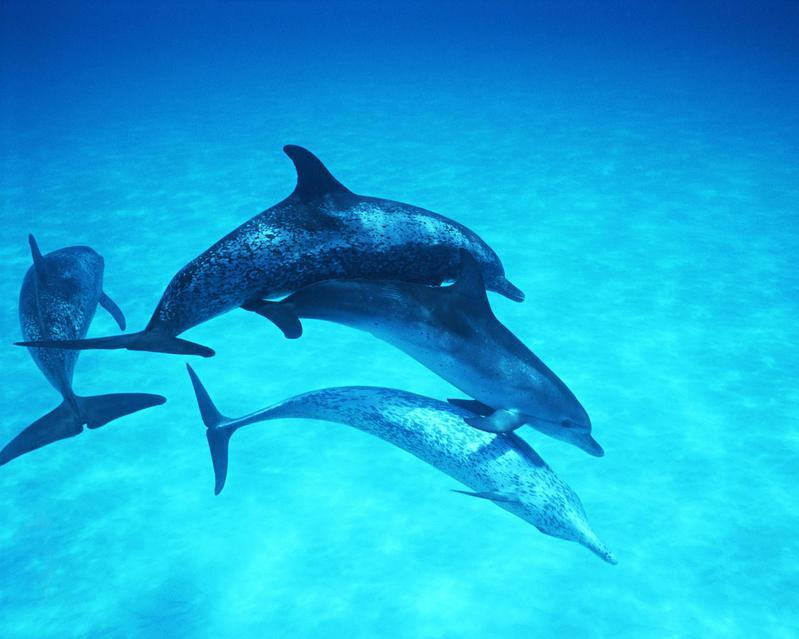fish: (24, 142, 533, 357), (179, 364, 621, 569), (243, 271, 616, 461), (1, 231, 167, 467)
